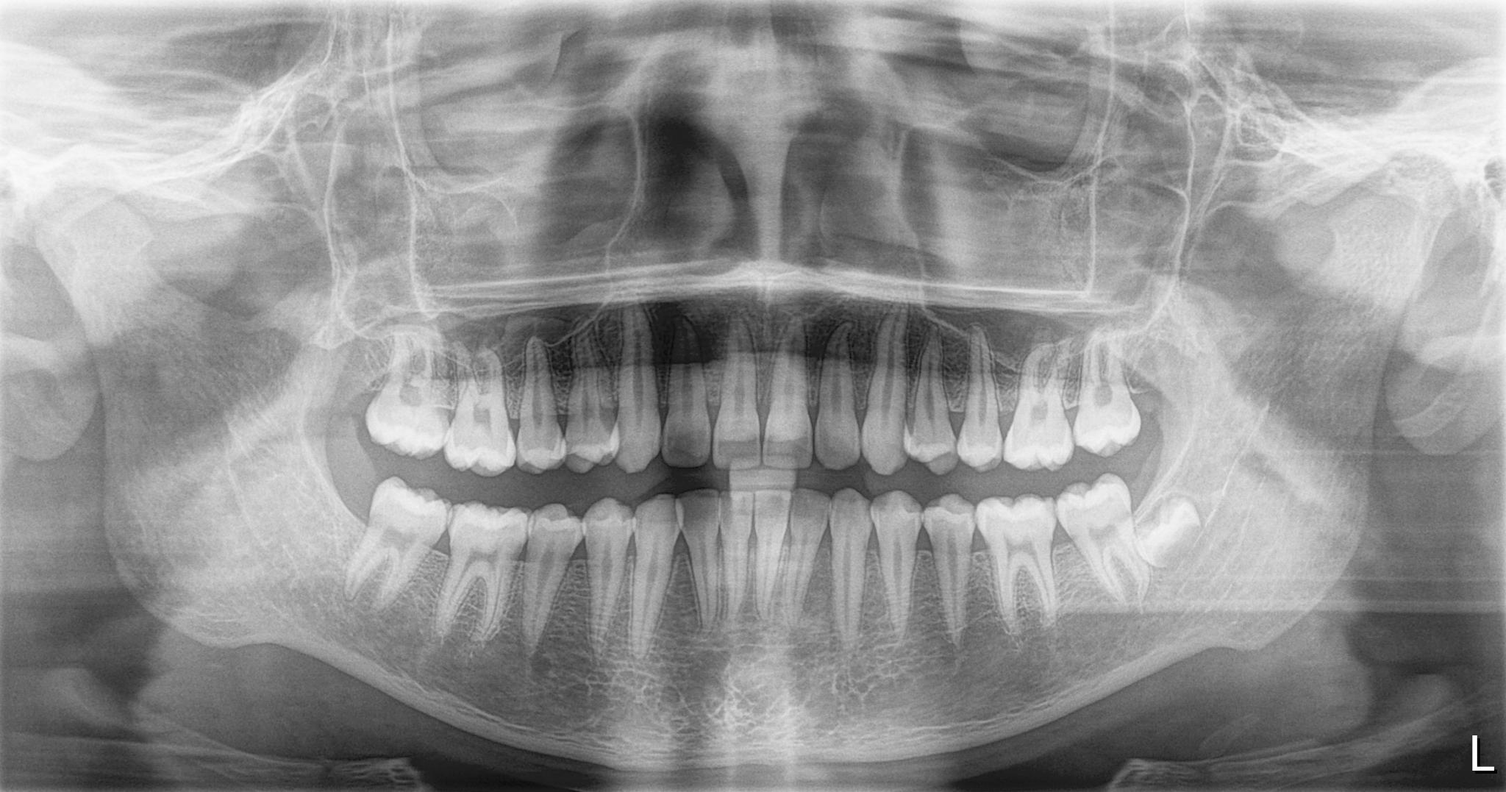Impacted Third Molar: (1129, 496, 1227, 579)
Missing Tooth: (307, 428, 376, 532)
